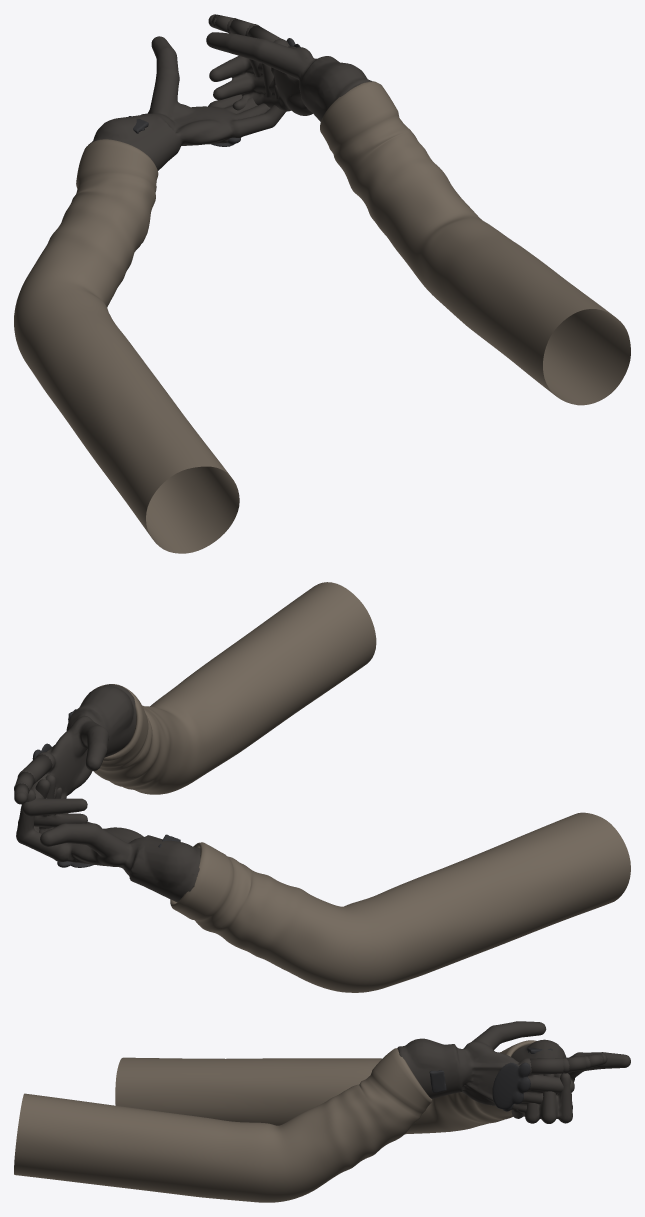
The model's file is p9_ronda.fbx.
3 renders of one model, top to bottom at view 1: azimuth 30°, elevation 25°; view 2: azimuth 150°, elevation 25°; view 3: azimuth 270°, elevation 25°, orthographic. The views are drawn at different scales.
Visible parts, largest first — view 1: s_p9_ronda_manica, d_p9_ronda_manica, s_p9_ronda_guanto, d_p9_ronda_guanto; view 2: s_p9_ronda_manica, d_p9_ronda_manica, s_p9_ronda_guanto, d_p9_ronda_guanto; view 3: d_p9_ronda_manica, s_p9_ronda_manica, d_p9_ronda_guanto, s_p9_ronda_guanto, d_p9_ronda_rinforzo, d_p9_ronda_indice1, d_p9_ronda_indice2.
Part boxes in pixels (x1,y1,x2,y2): s_p9_ronda_manica: [14, 139, 239, 553]; d_p9_ronda_manica: [320, 81, 630, 405]; s_p9_ronda_guanto: [88, 36, 285, 170]; d_p9_ronda_guanto: [206, 32, 372, 121]; s_p9_ronda_manica: [170, 812, 630, 992]; d_p9_ronda_manica: [81, 582, 376, 794]; s_p9_ronda_guanto: [16, 774, 200, 902]; d_p9_ronda_guanto: [21, 684, 136, 833]; d_p9_ronda_manica: [14, 1048, 431, 1202]; s_p9_ronda_manica: [115, 1040, 536, 1134]; d_p9_ronda_guanto: [397, 1021, 574, 1113]; s_p9_ronda_guanto: [511, 1039, 630, 1123]; d_p9_ronda_rinforzo: [429, 1062, 530, 1111]; d_p9_ronda_indice1: [530, 1057, 569, 1074]; d_p9_ronda_indice2: [565, 1055, 590, 1072].
Size of the model in its own units: 0.5476 by 0.3284 by 0.8074.
